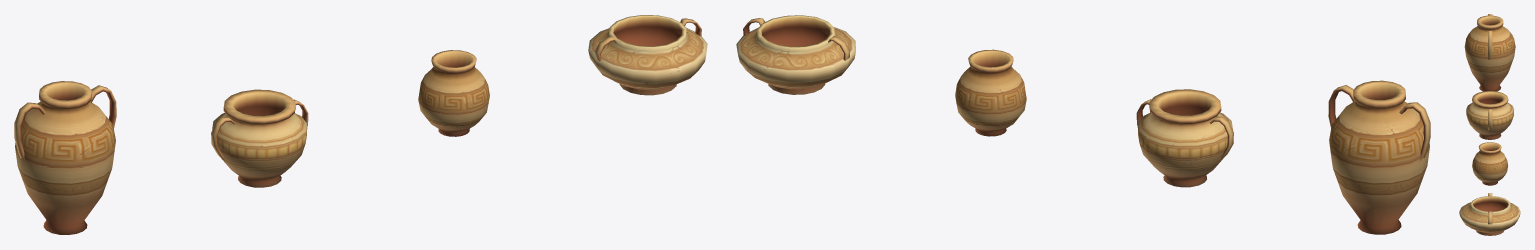
File: doodad_vase1-4_mesh.fbx
The picture shows the model from 3 angles, left to right: view 1: azimuth 30°, elevation 25°; view 2: azimuth 150°, elevation 25°; view 3: azimuth 270°, elevation 25°; orthographic projection. The views are drawn at different scales.
Visible parts, largest first — view 1: mesh_doodad_vase1, mesh_doodad_vase4, mesh_doodad_vase2, mesh_doodad_vase3; view 2: mesh_doodad_vase1, mesh_doodad_vase2, mesh_doodad_vase4, mesh_doodad_vase3; view 3: mesh_doodad_vase1, mesh_doodad_vase4, mesh_doodad_vase2, mesh_doodad_vase3.
Part boxes in pixels (<box>): mesh_doodad_vase1: <box>14,81,116,234</box>; mesh_doodad_vase4: <box>588,15,707,95</box>; mesh_doodad_vase2: <box>211,89,308,187</box>; mesh_doodad_vase3: <box>418,50,489,136</box>; mesh_doodad_vase1: <box>1328,80,1430,234</box>; mesh_doodad_vase2: <box>1136,89,1233,187</box>; mesh_doodad_vase4: <box>736,15,855,94</box>; mesh_doodad_vase3: <box>955,49,1026,136</box>; mesh_doodad_vase1: <box>1464,14,1515,91</box>; mesh_doodad_vase4: <box>1459,193,1520,235</box>; mesh_doodad_vase2: <box>1466,91,1513,139</box>; mesh_doodad_vase3: <box>1472,142,1507,185</box>.
Size of the model in its own units: 7.04 by 1.31 by 1.1.
Materials: 1 (1 with a texture image).
